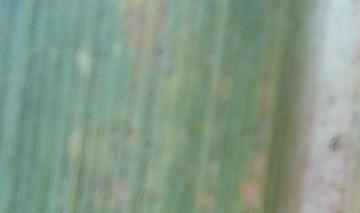tarspot: (329, 137, 341, 154)
